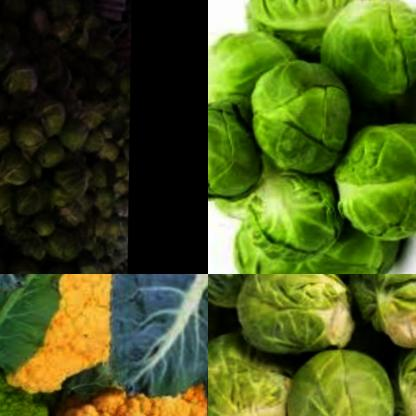brus capusta: (208, 0, 416, 274), (0, 0, 132, 274), (208, 329, 339, 416), (287, 333, 416, 416), (249, 274, 350, 346), (208, 274, 326, 326), (357, 274, 416, 360)
cayliflower: (0, 274, 134, 393), (41, 364, 208, 416)
